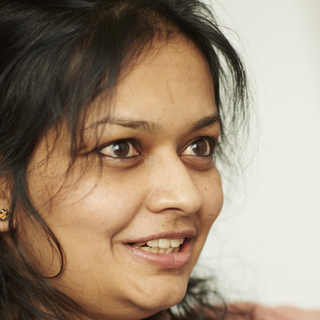eye: (93, 135, 143, 164), (178, 132, 219, 161)
